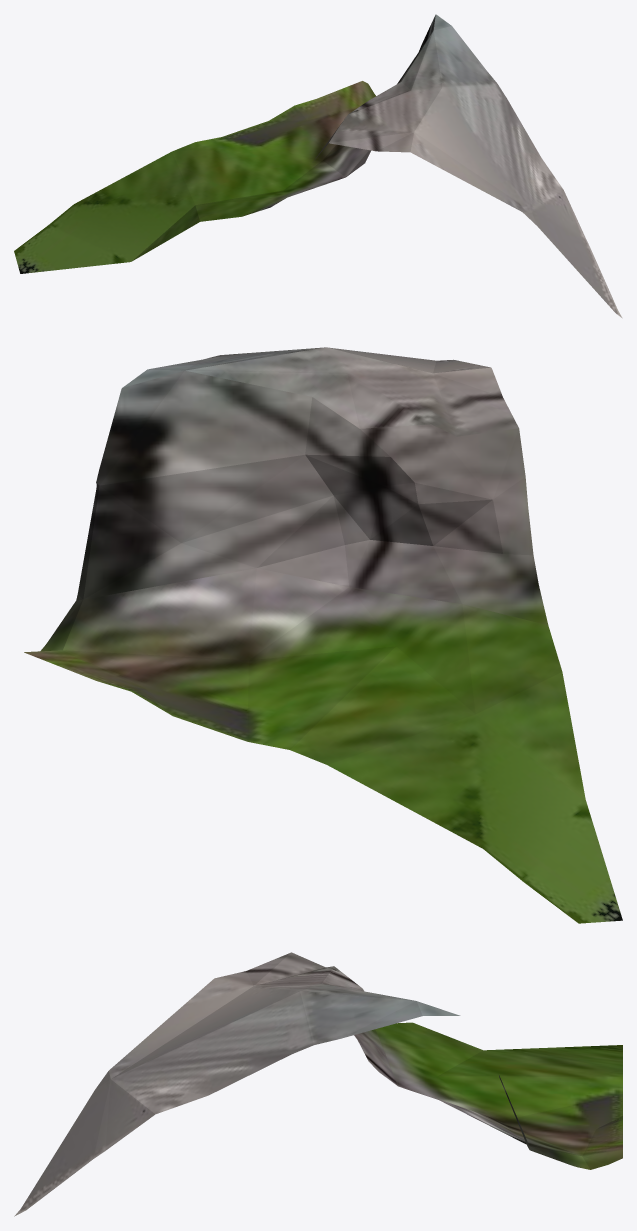
The picture shows the model from 3 angles, top to bottom: view 1: azimuth 30°, elevation 25°; view 2: azimuth 150°, elevation 25°; view 3: azimuth 270°, elevation 25°; orthographic projection. The views are drawn at different scales.
Bounding box in the file's own units: 2.49 × 1.37 × 3.01.
1 material, 1 textured.
